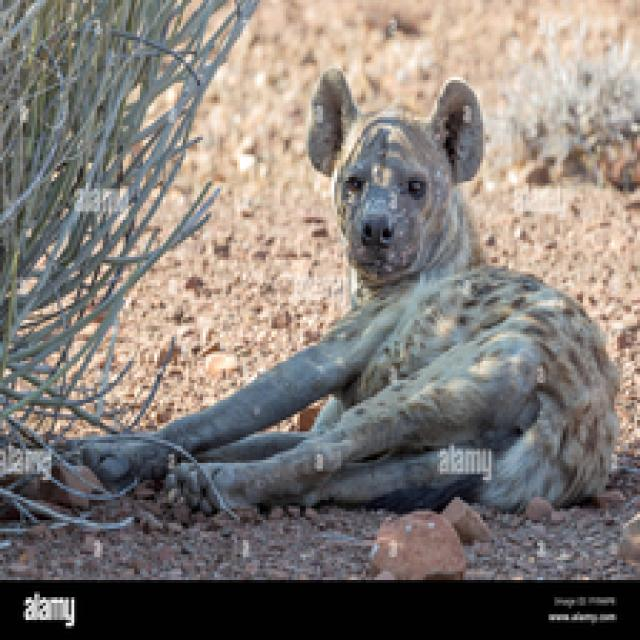hyena: (84, 68, 626, 493)
